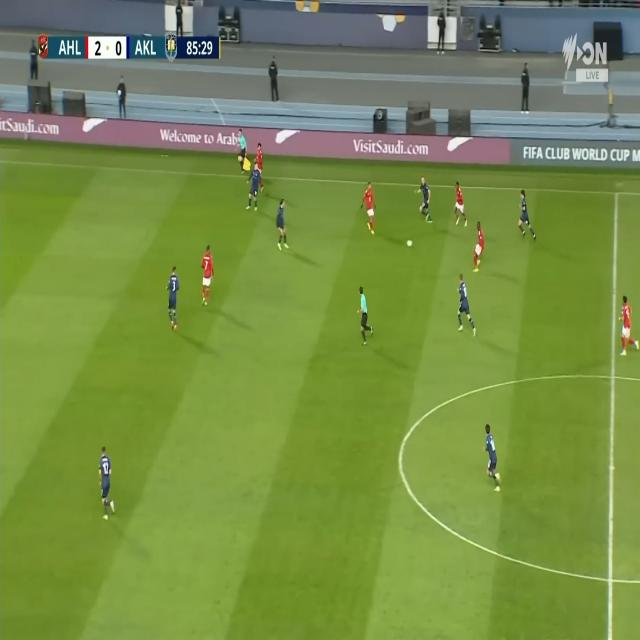Ball: (403, 236, 414, 250)
Player: (96, 440, 118, 525), (616, 290, 639, 361), (483, 422, 503, 499), (455, 271, 475, 336), (165, 263, 182, 333), (200, 240, 216, 309), (518, 187, 537, 240), (358, 181, 377, 234), (273, 198, 291, 251), (418, 173, 434, 227), (250, 143, 267, 193), (246, 159, 261, 213), (453, 178, 468, 230), (472, 221, 486, 272)
Ref: (356, 283, 374, 345), (230, 125, 249, 175)
